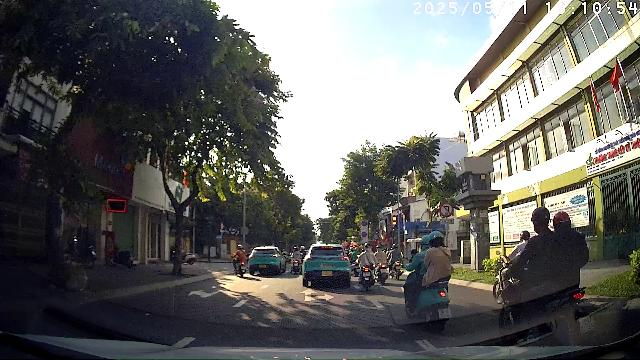103c-cam-oto-re-trai: (439, 202, 453, 218)
